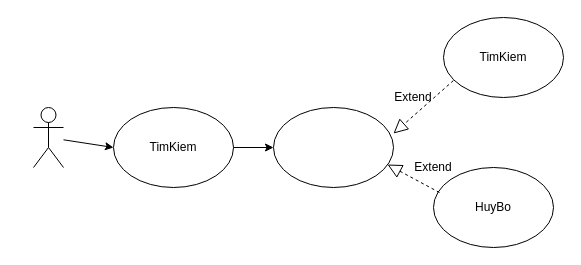
Some shapes in this 581 by 265 pixel diagram are drawn without their labels. The shapes that lost their labels are listed below. From the top down, each one's centre as x and y in pixels, then its label:
At point 48,137: "KhachHang".
At point 333,147: "ChonvaNhap ThongTin Cantim".
